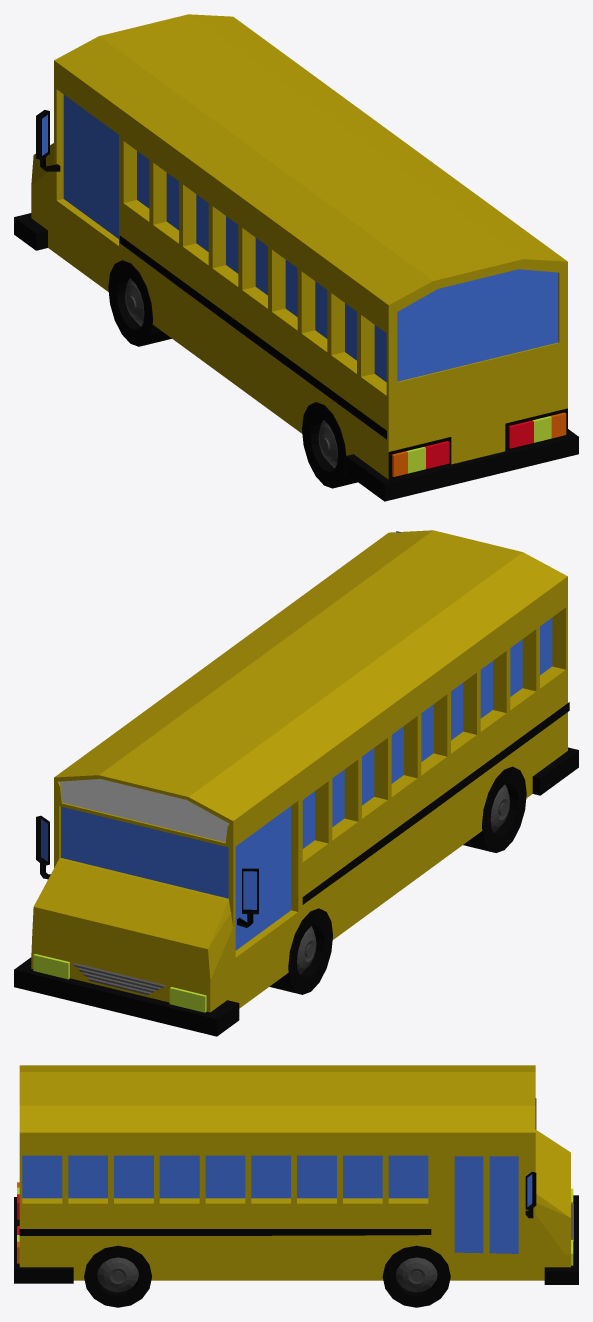
File: bus_2.fbx
3 renders of one model, top to bottom at view 1: azimuth 30°, elevation 25°; view 2: azimuth 150°, elevation 25°; view 3: azimuth 270°, elevation 25°, orthographic. The views are drawn at different scales.
Visible parts, largest first — view 1: SchoolBus2; view 2: SchoolBus2; view 3: SchoolBus2.
Boxes of the visible parts, x1,y1,x2,y2 form: SchoolBus2: [14, 14, 578, 501]; SchoolBus2: [14, 530, 578, 1036]; SchoolBus2: [14, 1065, 578, 1307].
Bounding box in the file's own units: 106 × 109 × 302.
